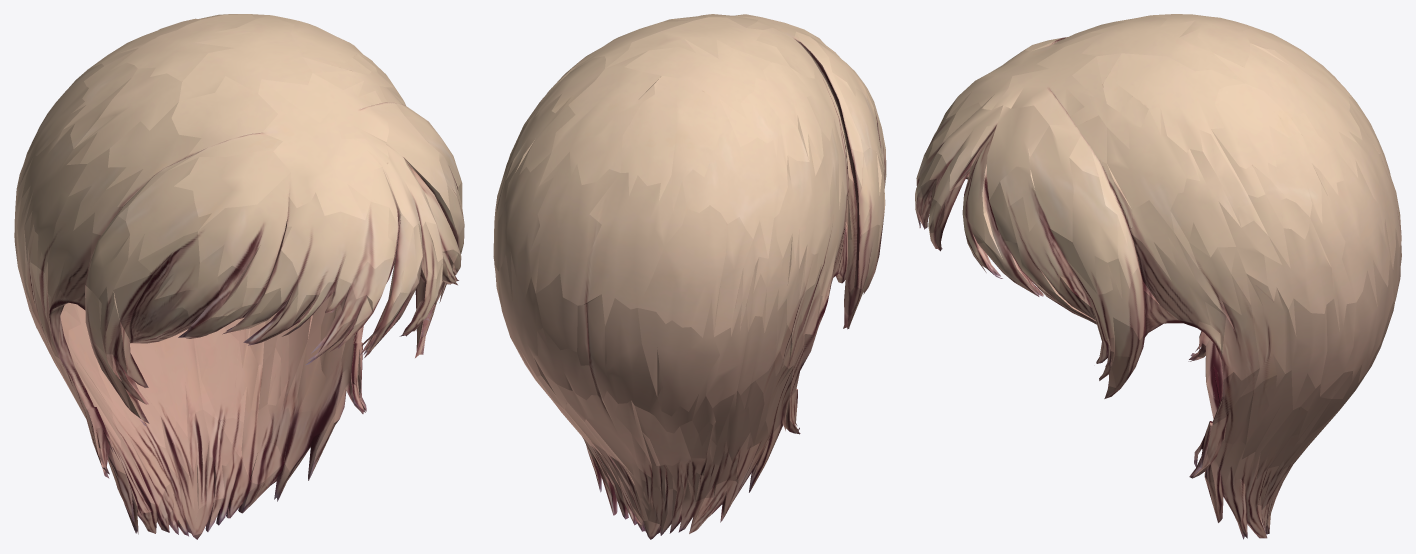
The model's file is fennal_f-courte-lisse.glb.
3 views of the same model, side by side, from view 1: azimuth 30°, elevation 25°; view 2: azimuth 150°, elevation 25°; view 3: azimuth 270°, elevation 25° (orthographic). The views are drawn at different scales.
Visible parts, largest first — view 1: geometry_0; view 2: geometry_0; view 3: geometry_0.
Part boxes in pixels (x1,y1,x2,y2): geometry_0: (14, 14, 464, 539); geometry_0: (493, 14, 886, 539); geometry_0: (915, 14, 1401, 539).
Size of the model in its own units: 1.34 by 1.89 by 1.67.
1 material, 1 textured.
